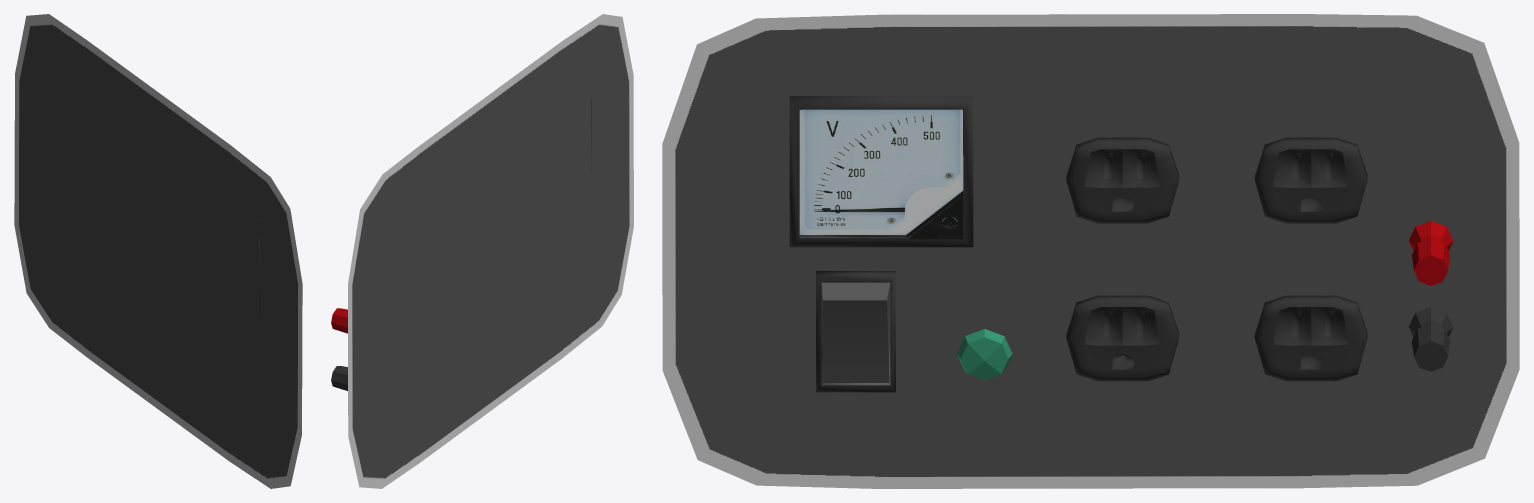
Rendered from Plaquita del generador .fbx.
3 views of the same model, side by side, from view 1: azimuth 30°, elevation 25°; view 2: azimuth 150°, elevation 25°; view 3: azimuth 270°, elevation 25° (orthographic). The views are drawn at different scales.
Visible parts, largest first — view 1: Circle.002; view 2: Circle.002; view 3: Circle.002.
Boxes of the visible parts, x1=… form: Circle.002: x1=14, y1=14, x2=302, y2=488; Circle.002: x1=331, y1=14, x2=633, y2=488; Circle.002: x1=662, y1=14, x2=1519, y2=488.
Bounding box in the file's own units: 20.09 × 148 × 243.
